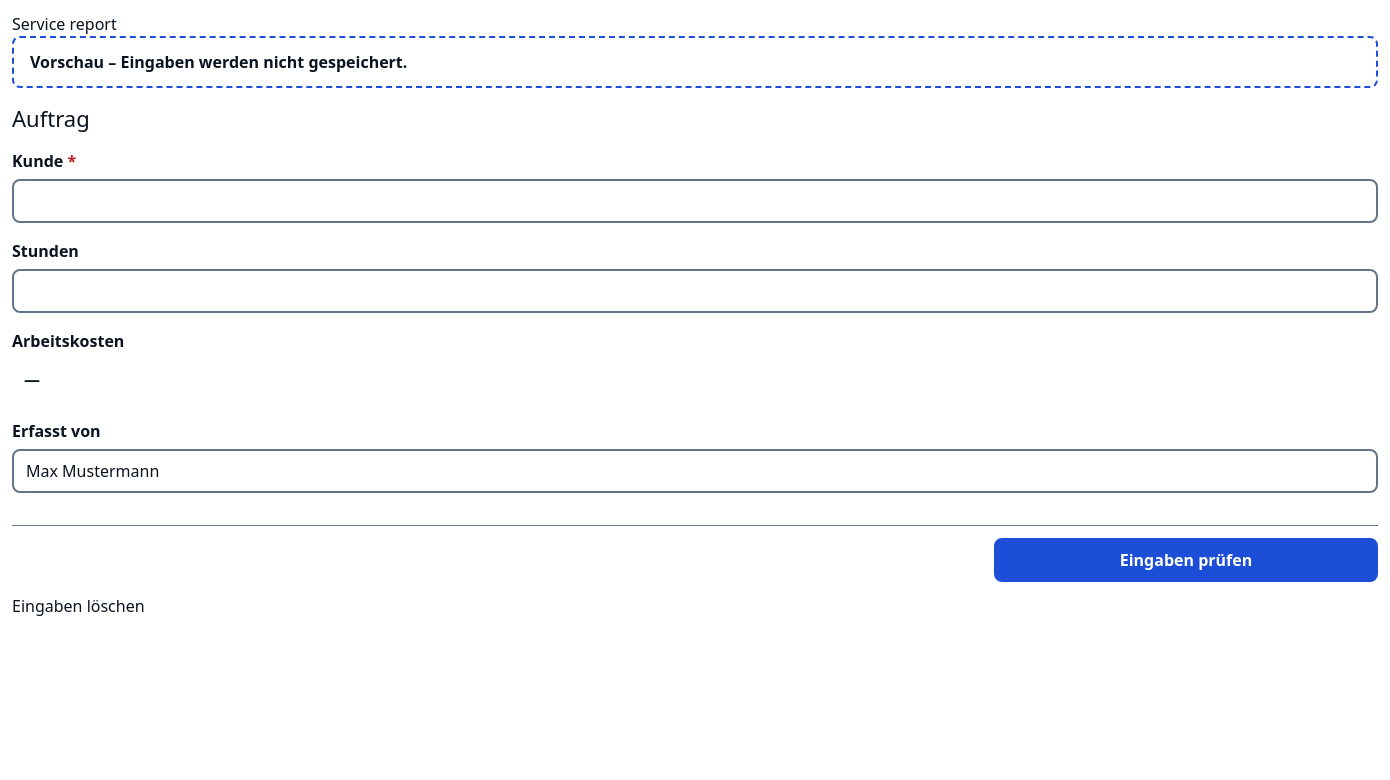
Test: PreviewApp with the real renderer › shows the error summary when the designer checks the entries
This screenshot has width=1390, height=780.
Click the button "Eingaben prüfen": {"x": 1186, "y": 560} [994,538,1378,582]
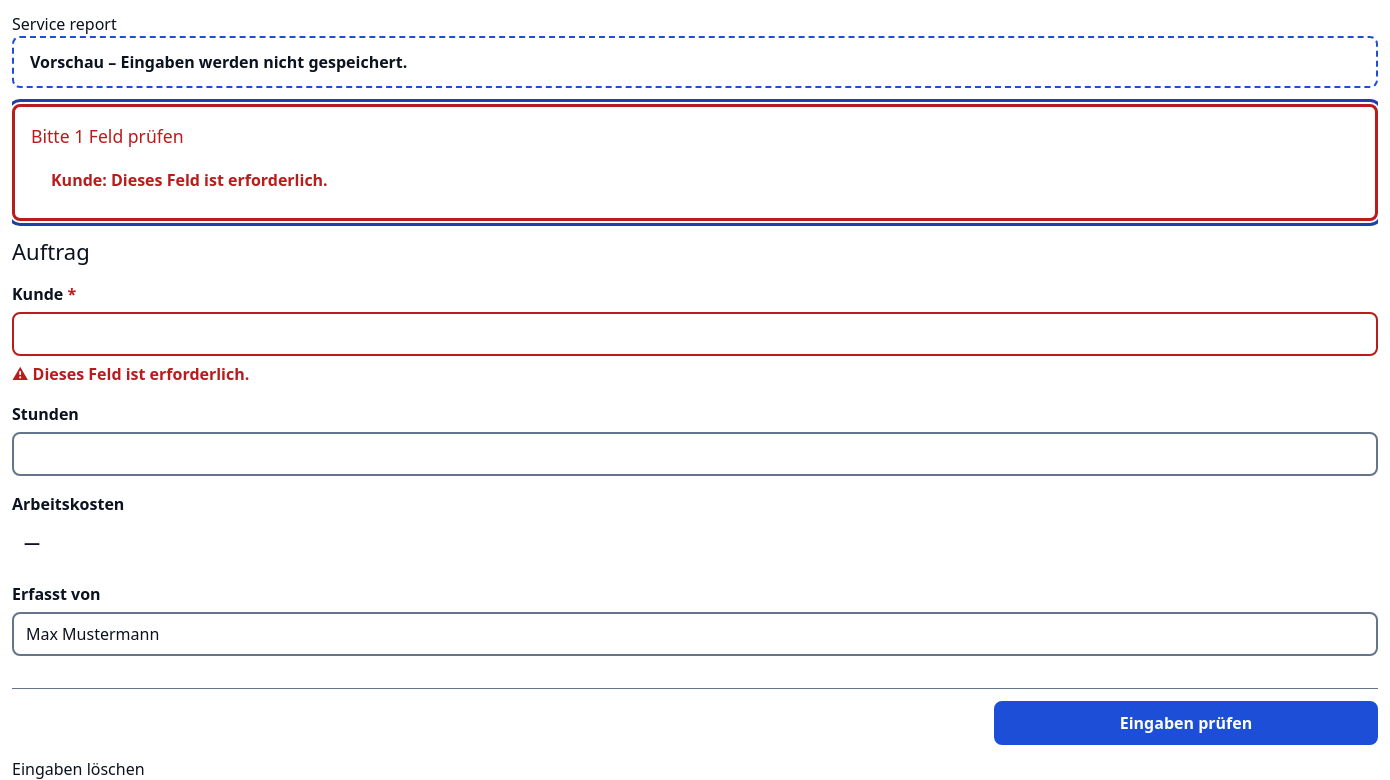
expect the link "Kunde: Dieses Feld ist erforderlich." is shown: met, box [51,169,328,191]
